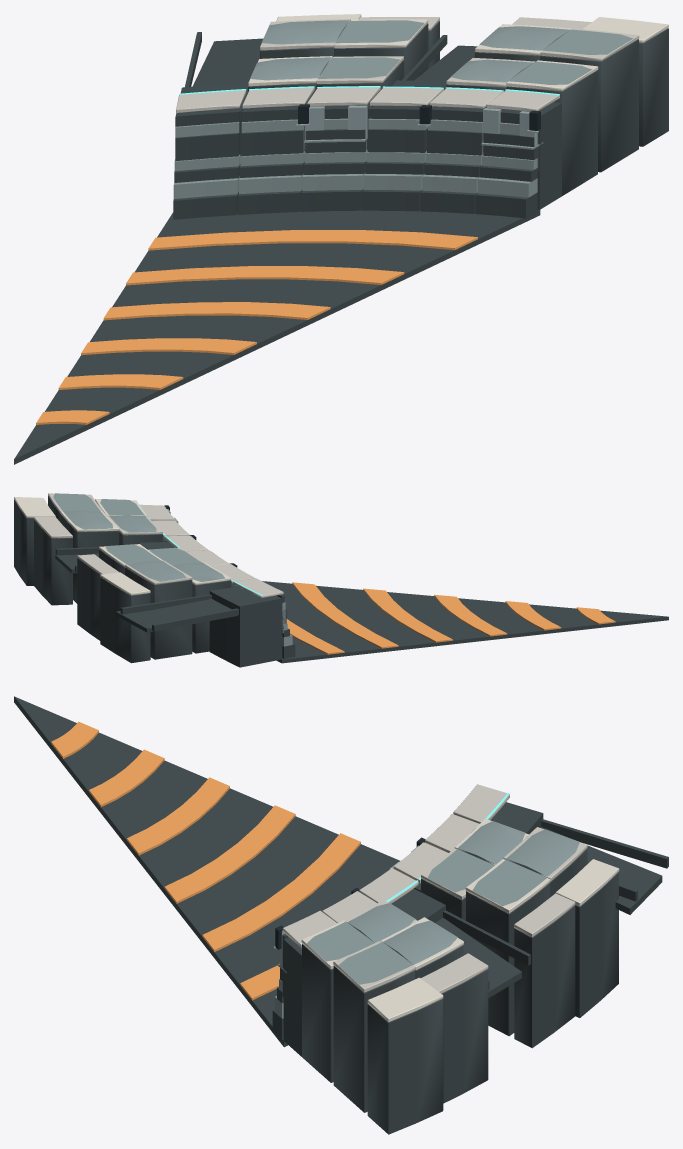
File: Weather_Lung_Sector_01_Structure.glb
3 views of the same model, one above another, from view 1: azimuth 30°, elevation 25°; view 2: azimuth 150°, elevation 25°; view 3: azimuth 270°, elevation 25° (orthographic). The views are drawn at different scales.
Parts seen in each view (by area): view 1: Weather_Lung_Sector_01_Structure; view 2: Weather_Lung_Sector_01_Structure; view 3: Weather_Lung_Sector_01_Structure.
Boxes of the visible parts, left/top/right/bottom form: Weather_Lung_Sector_01_Structure: left=14, top=14, right=668, bottom=464; Weather_Lung_Sector_01_Structure: left=14, top=493, right=668, bottom=667; Weather_Lung_Sector_01_Structure: left=14, top=696, right=668, bottom=1134.
Bounding box in the file's own units: 10958 × 1608 × 6912.
